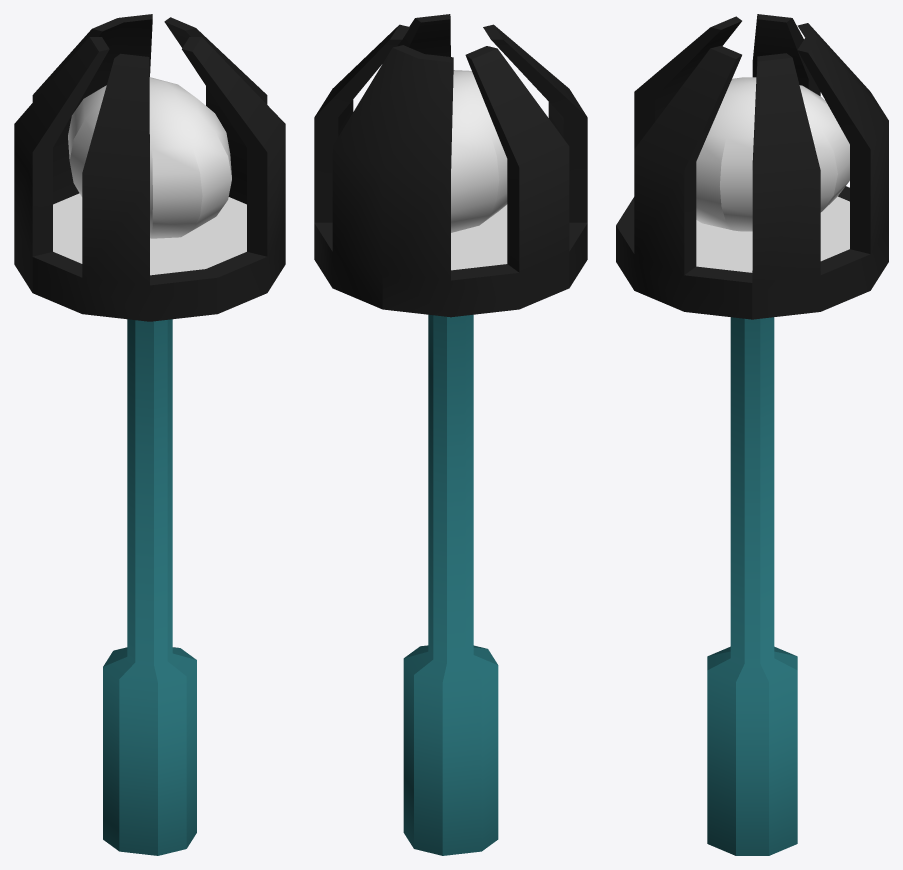
Rendered from LightGun.fbx.
The picture shows the model from 3 angles, left to right: view 1: azimuth 30°, elevation 25°; view 2: azimuth 150°, elevation 25°; view 3: azimuth 270°, elevation 25°; orthographic projection.
Parts seen in each view (by area): view 1: Box, ray; view 2: Box, ray; view 3: Box, ray.
Part boxes in pixels (x1,y1,x2,y2): Box: (14,14,285,855); ray: (68,77,231,238); Box: (314,14,587,855); ray: (451,70,507,232); Box: (616,14,888,855); ray: (696,77,849,231).
Bounding box in the file's own units: 101 × 328 × 101.
